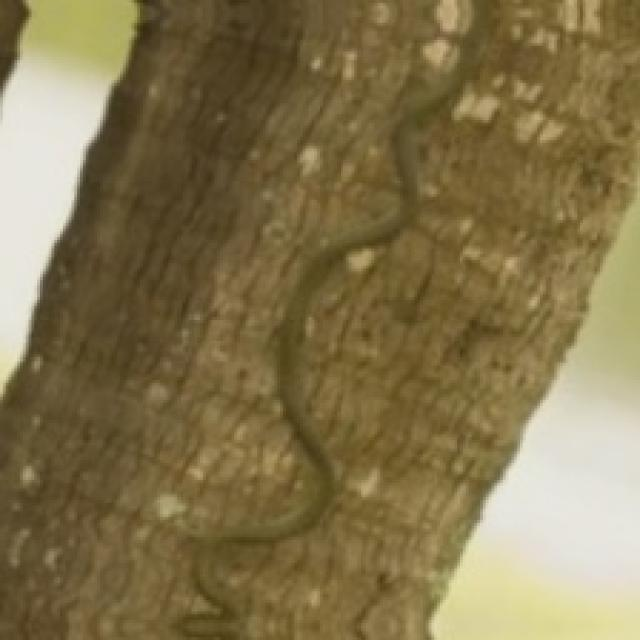paradise tree snake: (0, 0, 637, 637), (134, 0, 520, 637)
